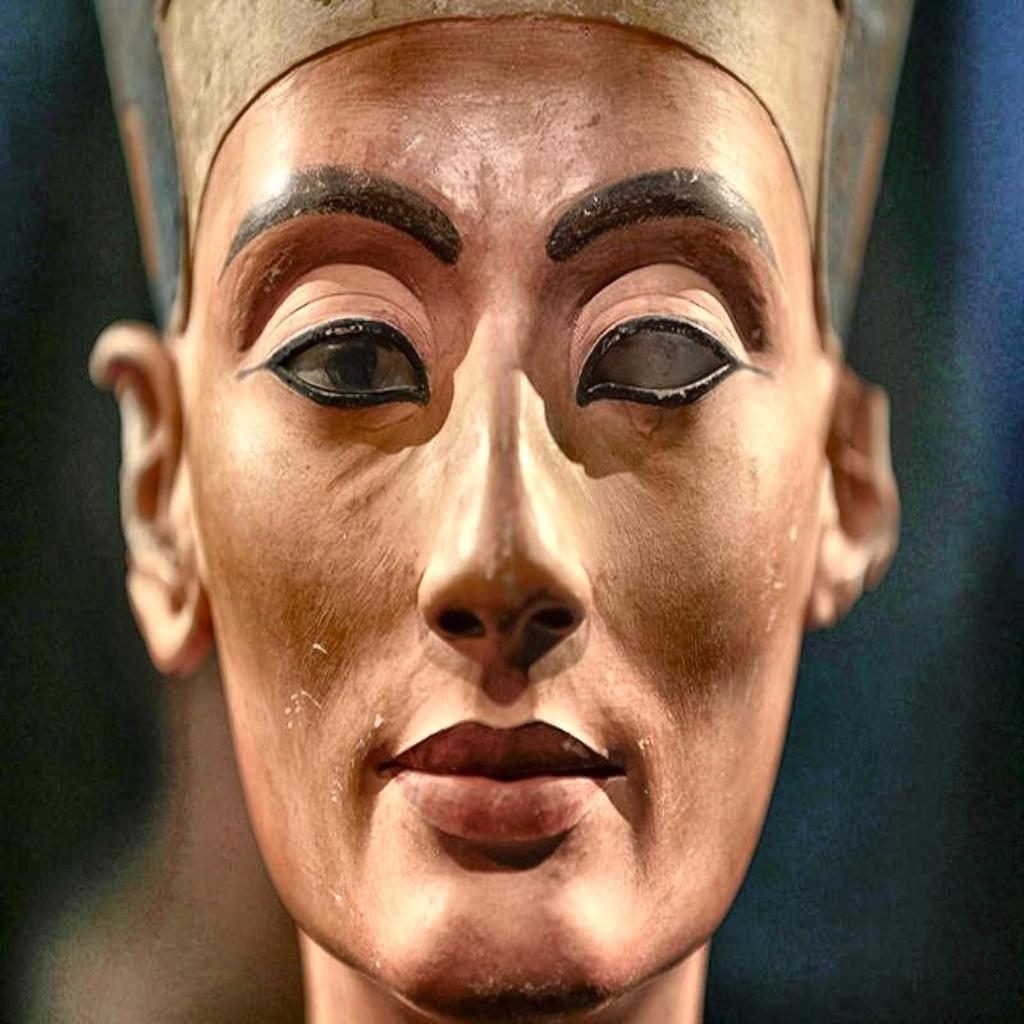Nefertiti: (84, 2, 908, 1019)
